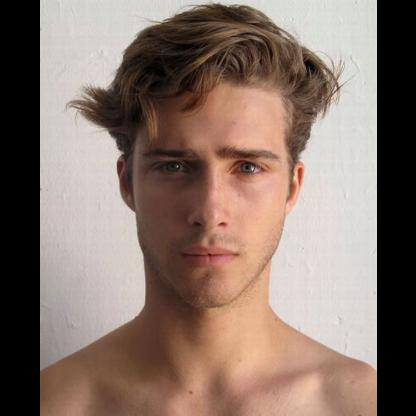Male: (114, 79, 302, 306)
